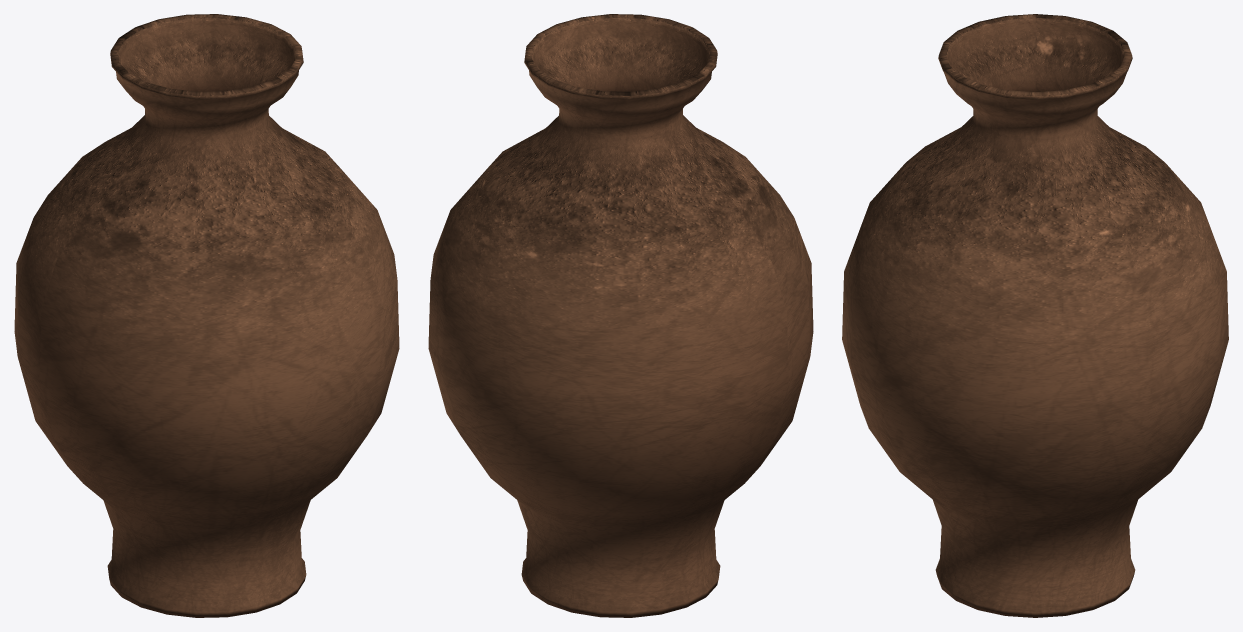
Rendered from Vase.complete.gltf.
3 renders of one model, left to right at view 1: azimuth 30°, elevation 25°; view 2: azimuth 150°, elevation 25°; view 3: azimuth 270°, elevation 25°, orthographic.
Visible parts, largest first — view 1: Plane; view 2: Plane; view 3: Plane.
Part boxes in pixels (box(x1,y1,x2,y2)): Plane: box(14, 14, 399, 617); Plane: box(428, 14, 813, 617); Plane: box(842, 14, 1228, 617).
Size of the model in its own units: 1.16 by 1.72 by 1.16.
1 material, 1 textured.
